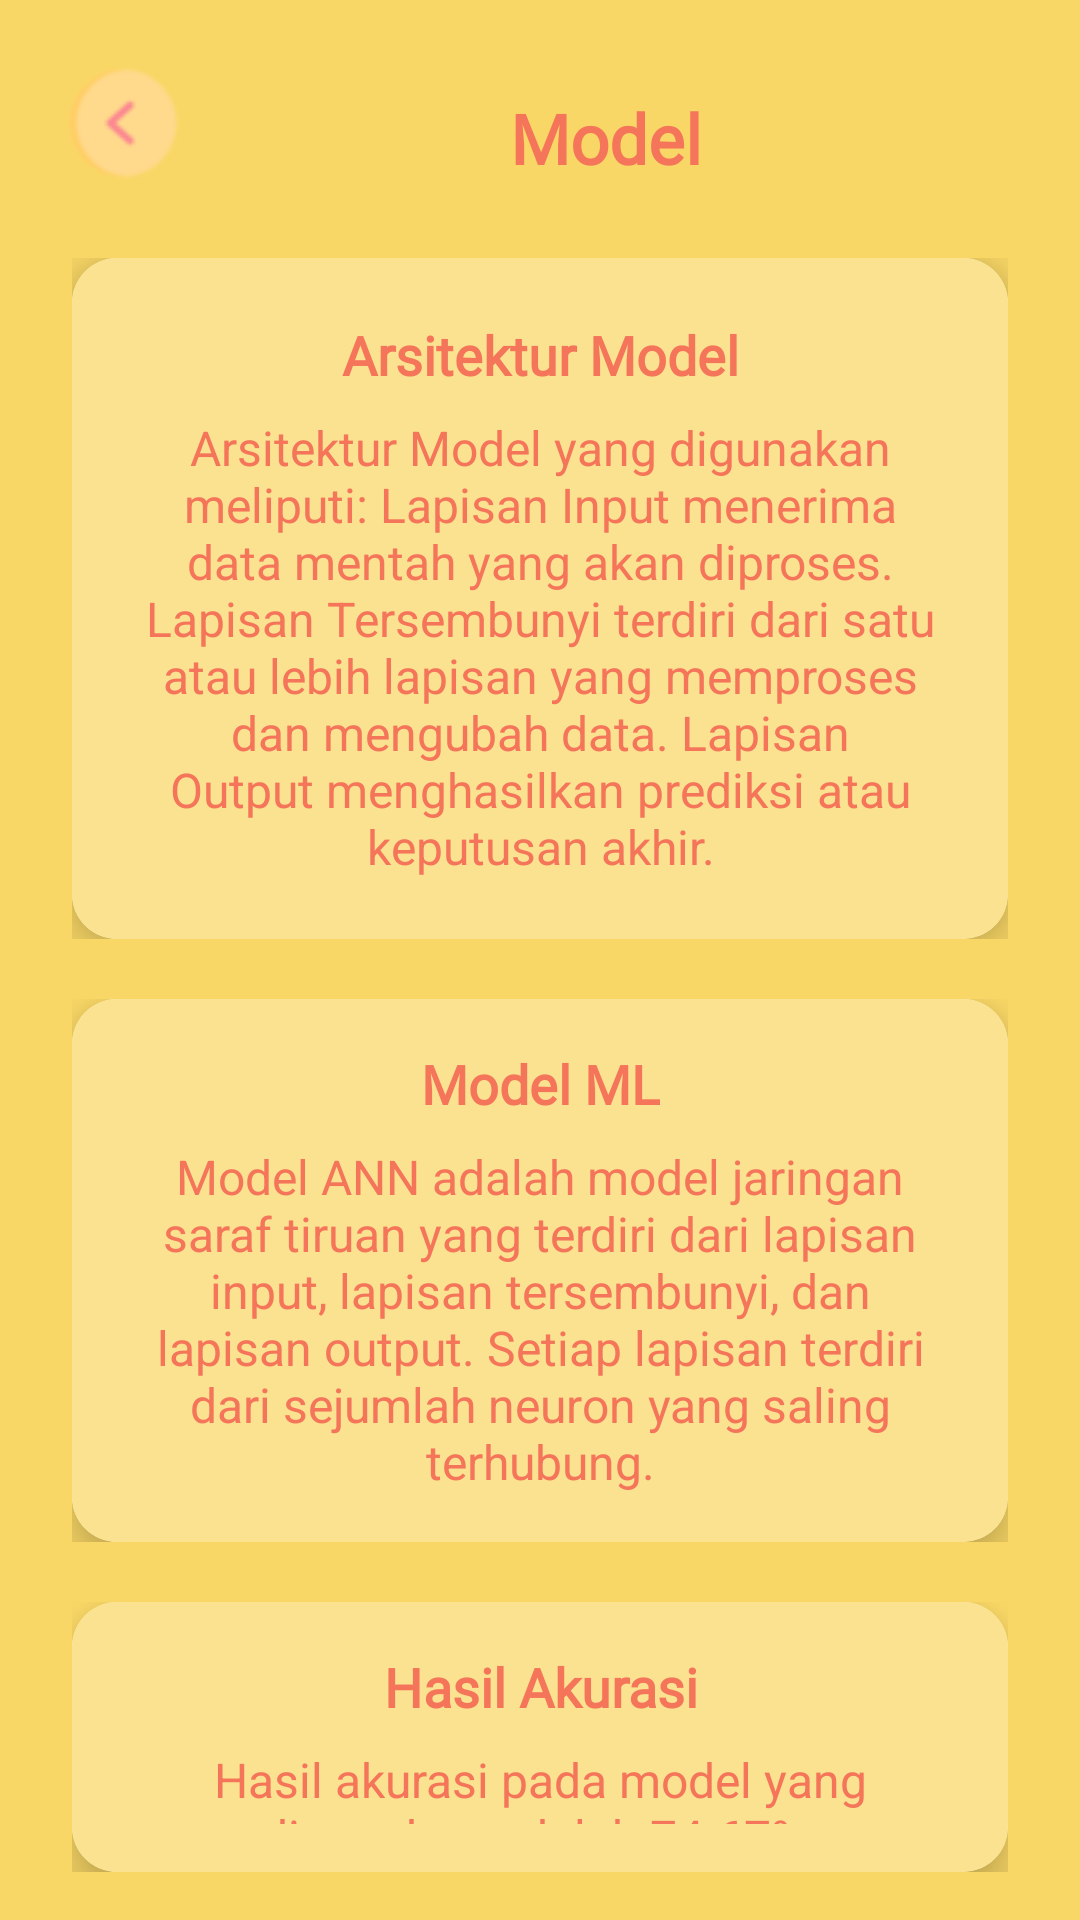

Icon click points for this 1080 × 1920 phone screenshot, format point (x, y):
Back: point (127, 123)
